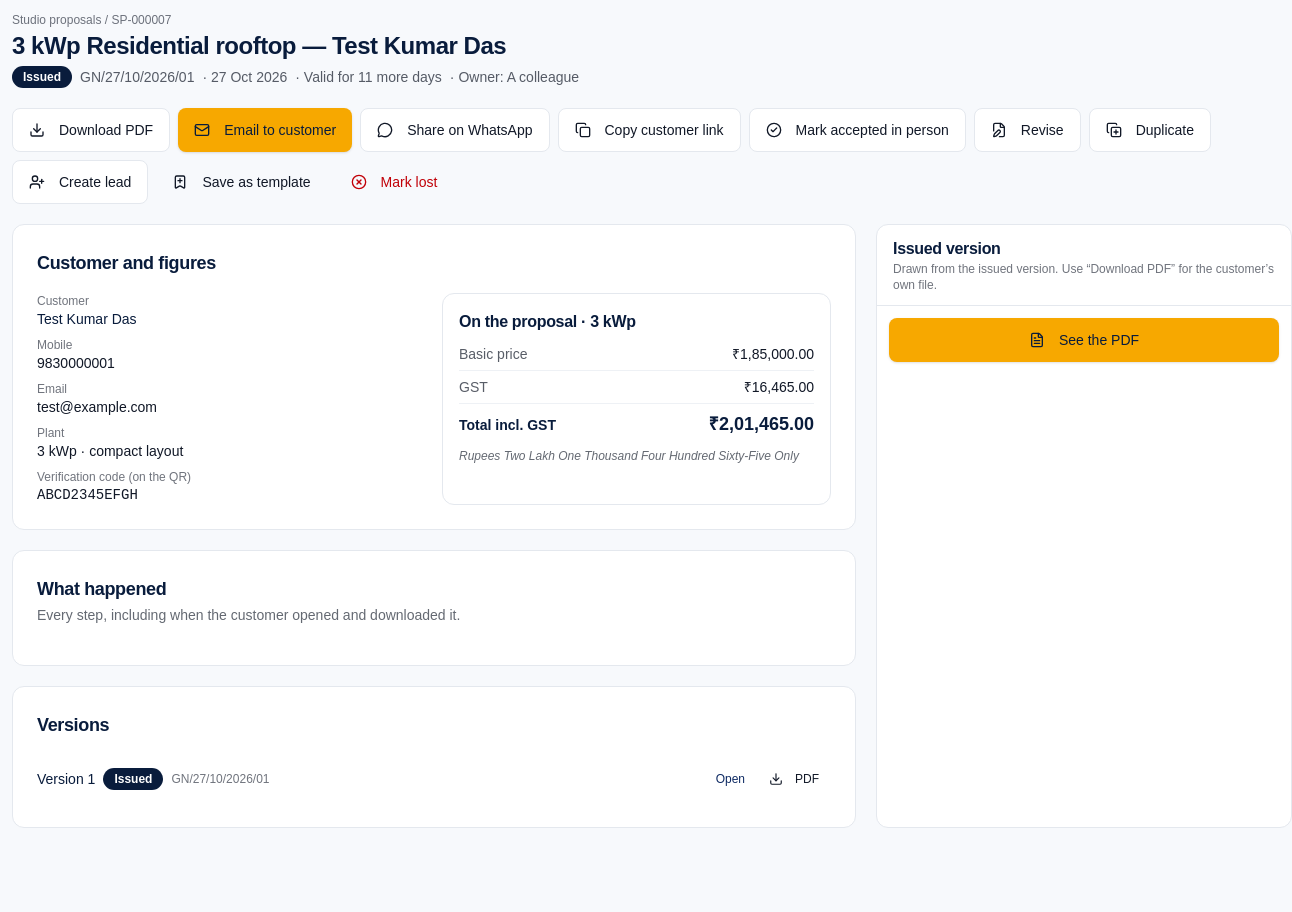
Test: the proposal page › Copy customer link uses public_url and never the WhatsApp route; an unreadable link says so
This screenshot has width=1292, height=912.
Step 1. Click the button with test id "action-copy-link" → (649, 130), box [558,108,740,152]
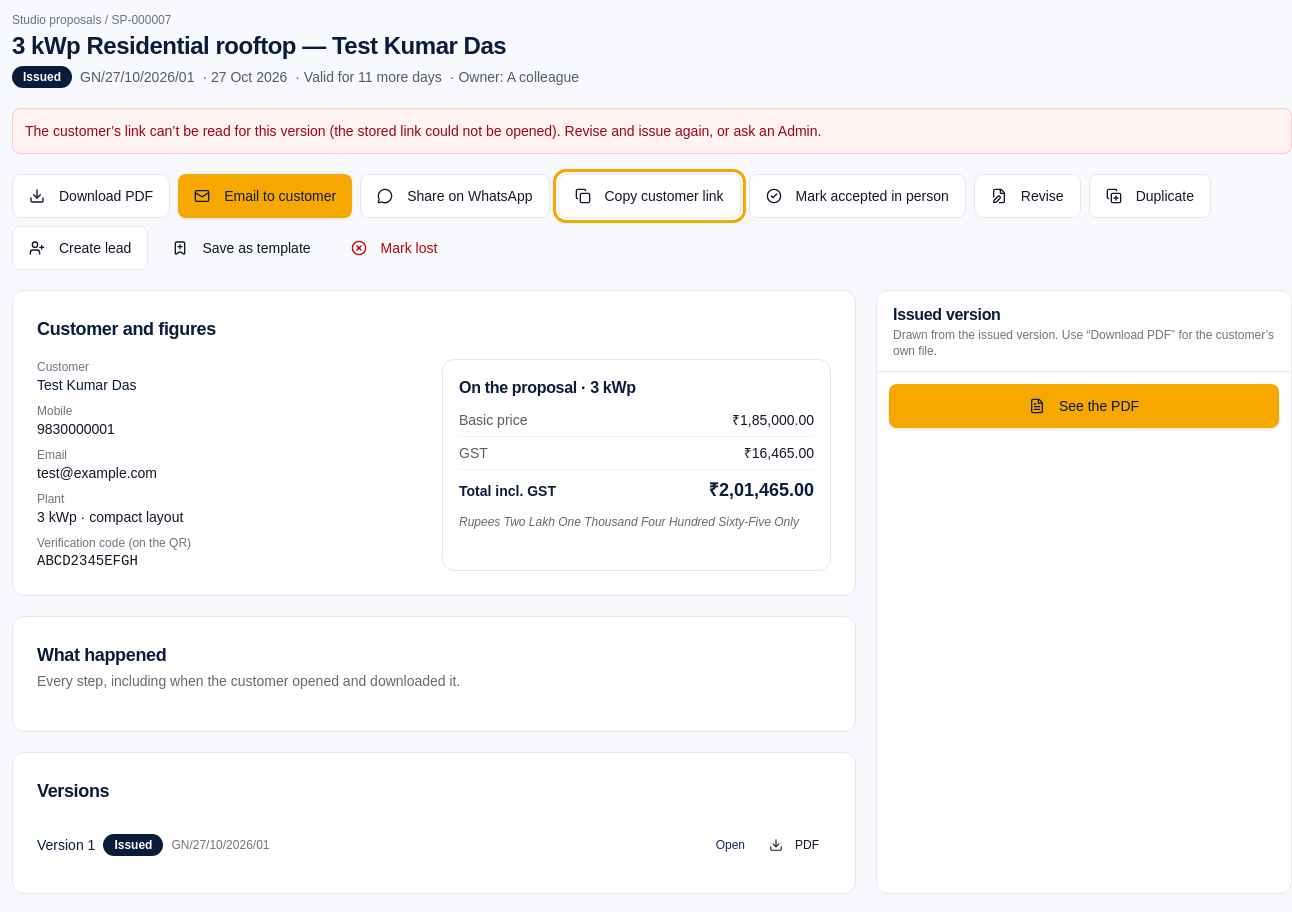
Check: the message with test id "overview-error" shows "can’t be read for this version", box [25,123,821,139]
